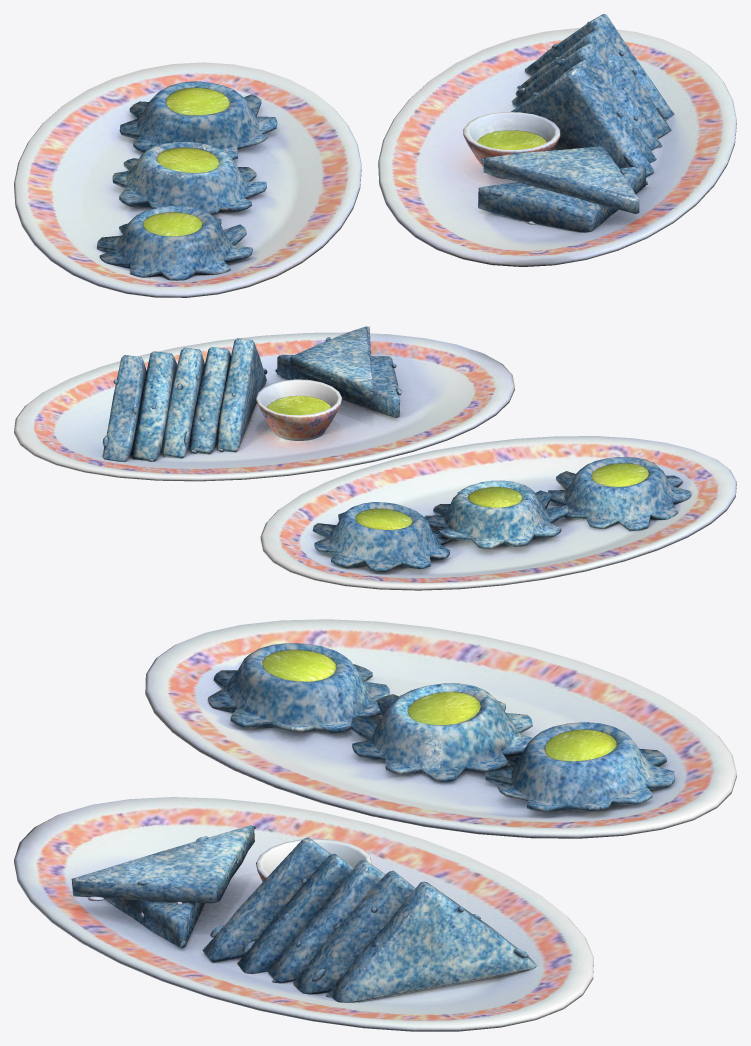
Rendered from PulutTaiTai.fbx.
3 renders of one model, top to bottom at view 1: azimuth 30°, elevation 25°; view 2: azimuth 150°, elevation 25°; view 3: azimuth 270°, elevation 25°, orthographic. The views are drawn at different scales.
Parts seen in each view (by area): view 1: Pulut_Tai)_Tai; view 2: Pulut_Tai)_Tai; view 3: Pulut_Tai)_Tai.
Boxes of the visible parts, x1,y1,x2,y2 form: Pulut_Tai)_Tai: (14,14,736,297); Pulut_Tai)_Tai: (14,326,736,590); Pulut_Tai)_Tai: (14,619,736,1031).
Size of the model in its own units: 539 by 71.15 by 406.
